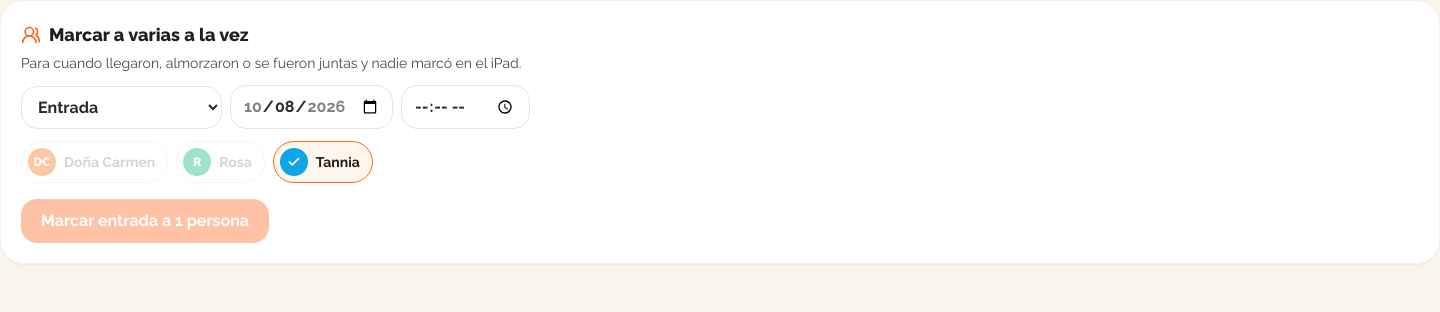
Test: marcar a varias a la vez › almuerzo en grupo: solo a quien está adentro, y la vuelta solo a quien está almorzando
Select "Salida a almorzar" in the dropdown named "Qué marca": (122, 108) [21, 86, 222, 129]
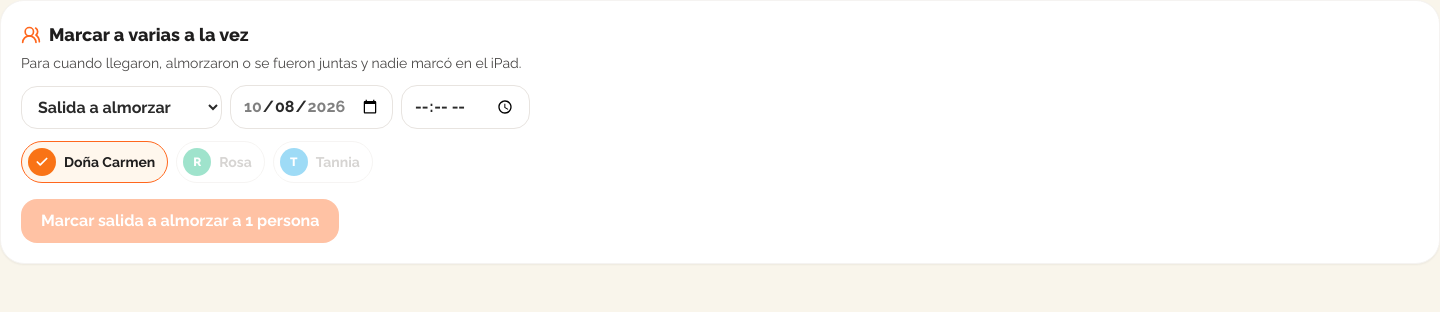
Expected: the button "R Rosa" is disabled, [176, 141, 265, 183]
In the time field named "Hora": (465, 107) [401, 85, 530, 129], type "12:00"
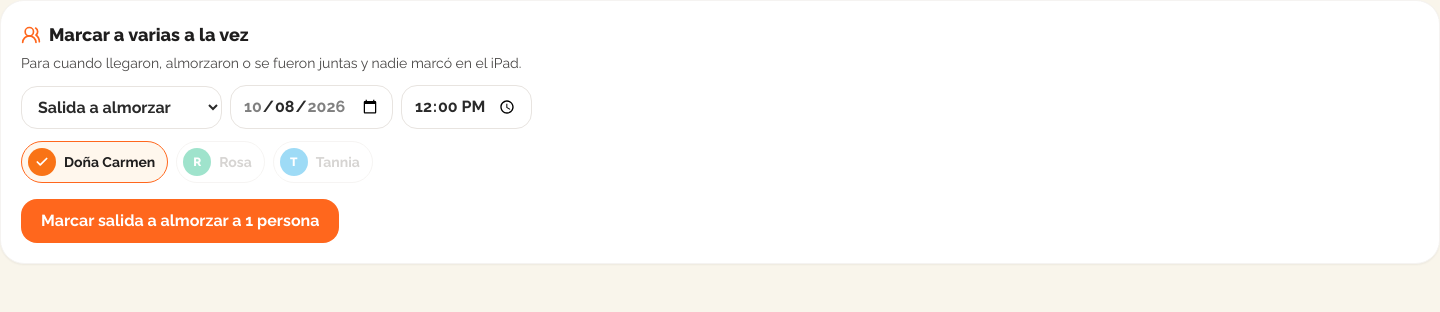
Click the button "Marcar salida a almorzar a 1 persona": click(180, 221) [21, 199, 339, 243]
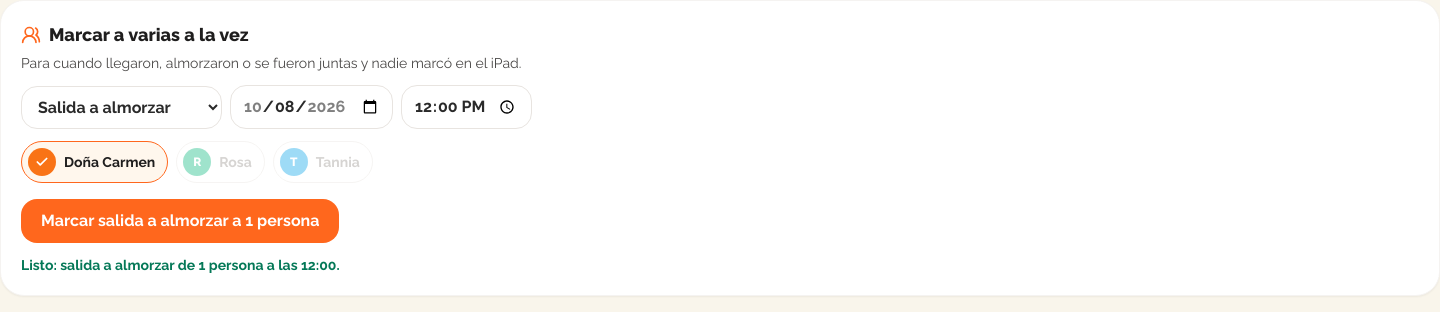
Select "Vuelta del almuerzo" in the dropdown named "Qué marca": (122, 108) [21, 86, 222, 129]
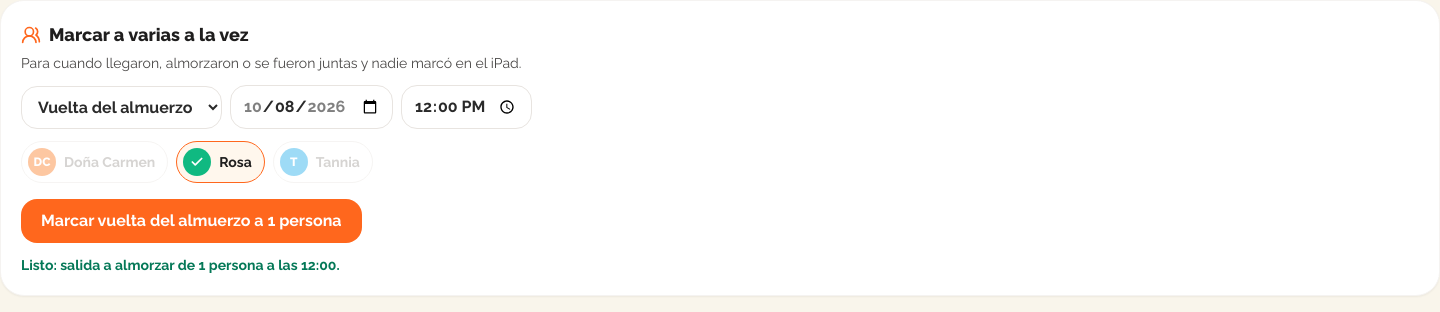
Result: the button "Marcar vuelta del almuerzo a 1 persona" is shown at [21, 199, 362, 243]
